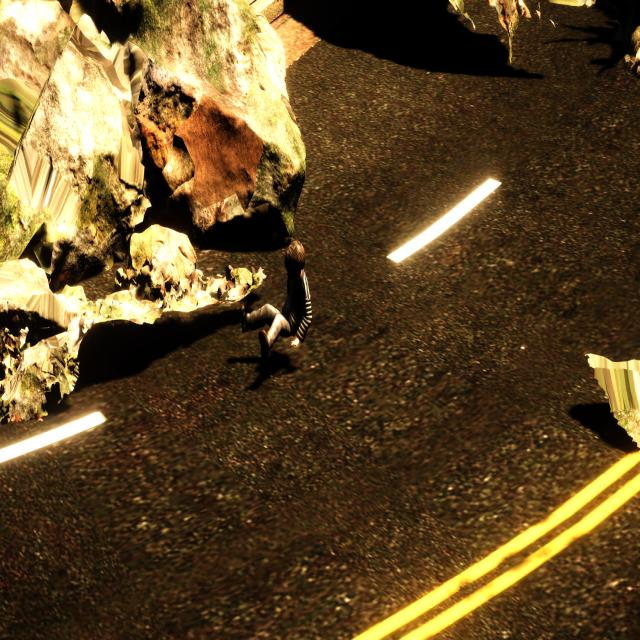Human: (235, 237, 314, 360)
